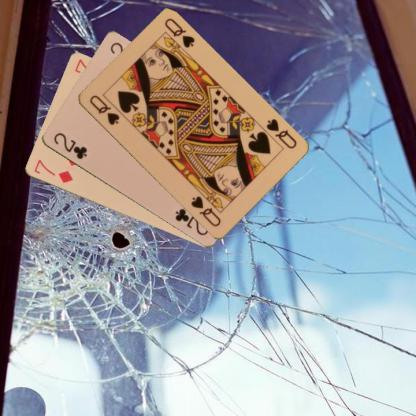2c: (50, 130, 88, 161)
7d: (30, 156, 74, 185)
Qs: (86, 92, 121, 127), (263, 116, 297, 150)
